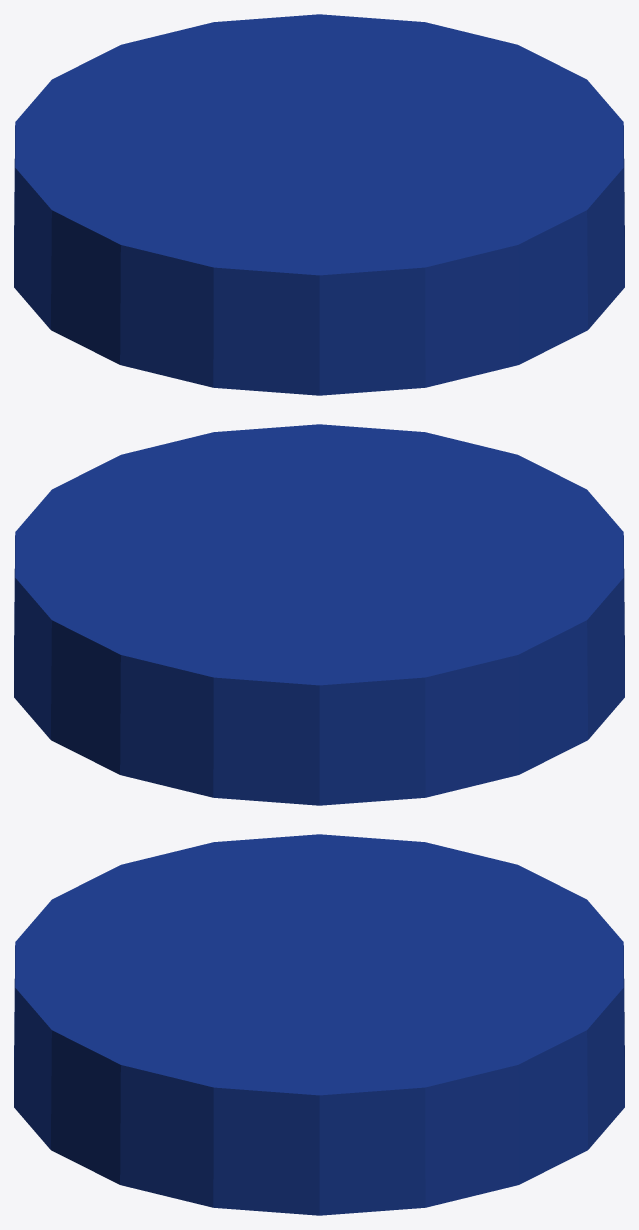
Rendered from tapa.fbx.
The picture shows the model from 3 angles, top to bottom: view 1: azimuth 30°, elevation 25°; view 2: azimuth 150°, elevation 25°; view 3: azimuth 270°, elevation 25°; orthographic projection.
Visible parts, largest first — view 1: Object001; view 2: Object001; view 3: Object001.
Boxes of the visible parts, bbox=[...] form: Object001: bbox=[14, 14, 624, 395]; Object001: bbox=[14, 424, 624, 805]; Object001: bbox=[14, 834, 624, 1215].
Size of the model in its own units: 4.97 by 1.06 by 4.9.
